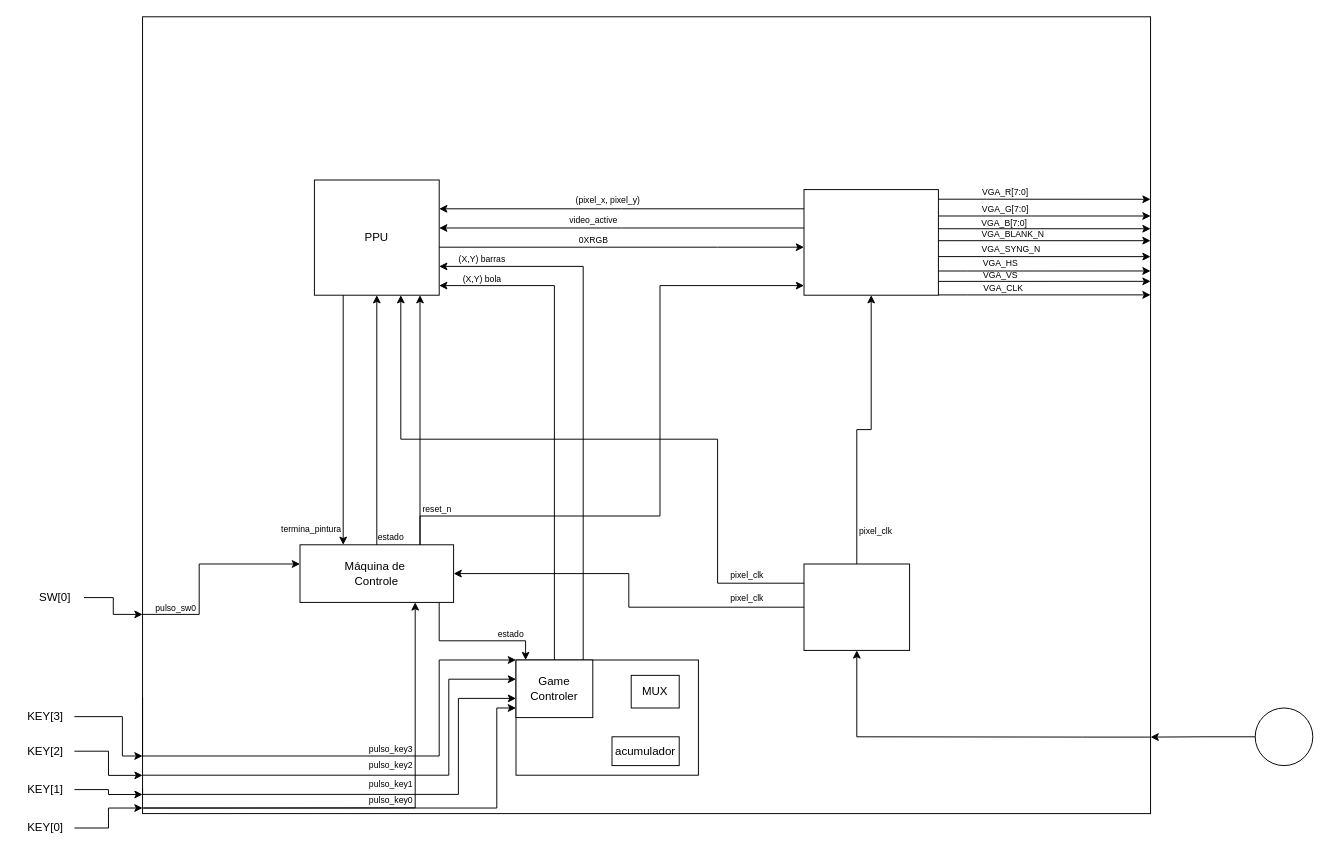
The diagram is 1330 pixels wide and 859 high, and some of its shapes have lost their labels. The shapes that lost their labels are listed below. From the top down, each one's box as (x1, y1, x2, y2) in pixels, then its label:
(803, 189, 938, 295): VGA
(803, 563, 910, 650): PLL
(1254, 707, 1313, 766): CLK
